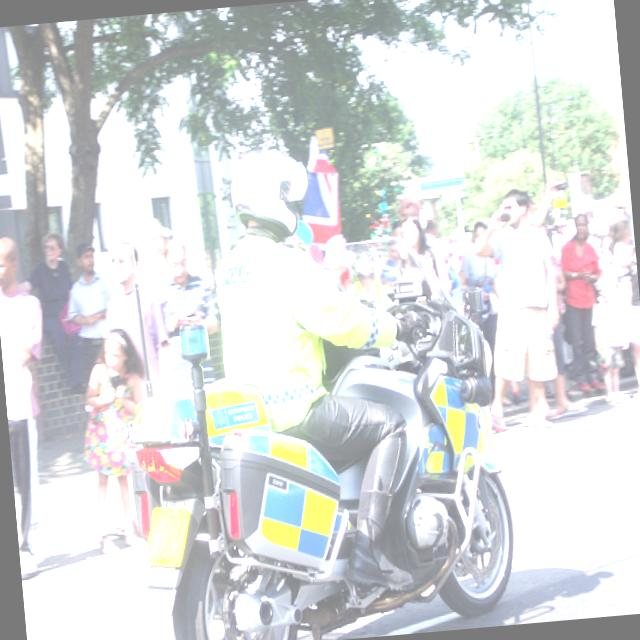Vehicle: (108, 227, 523, 640)
